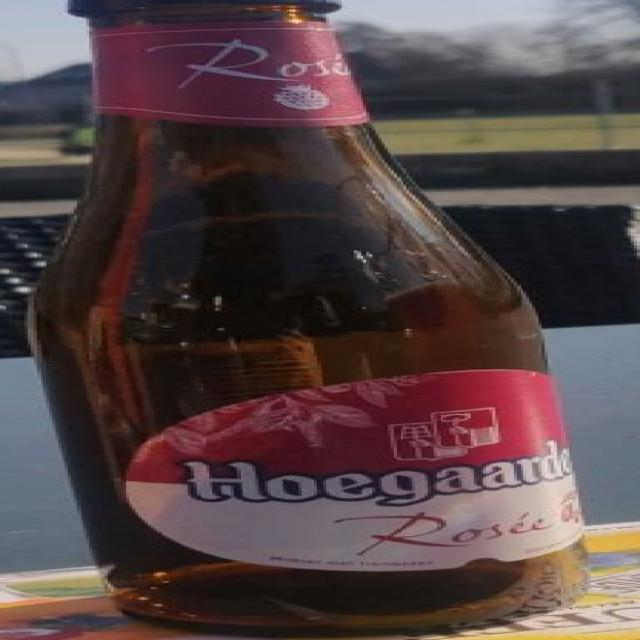Hoegaarden Wit Blanche: (3, 0, 640, 640)
